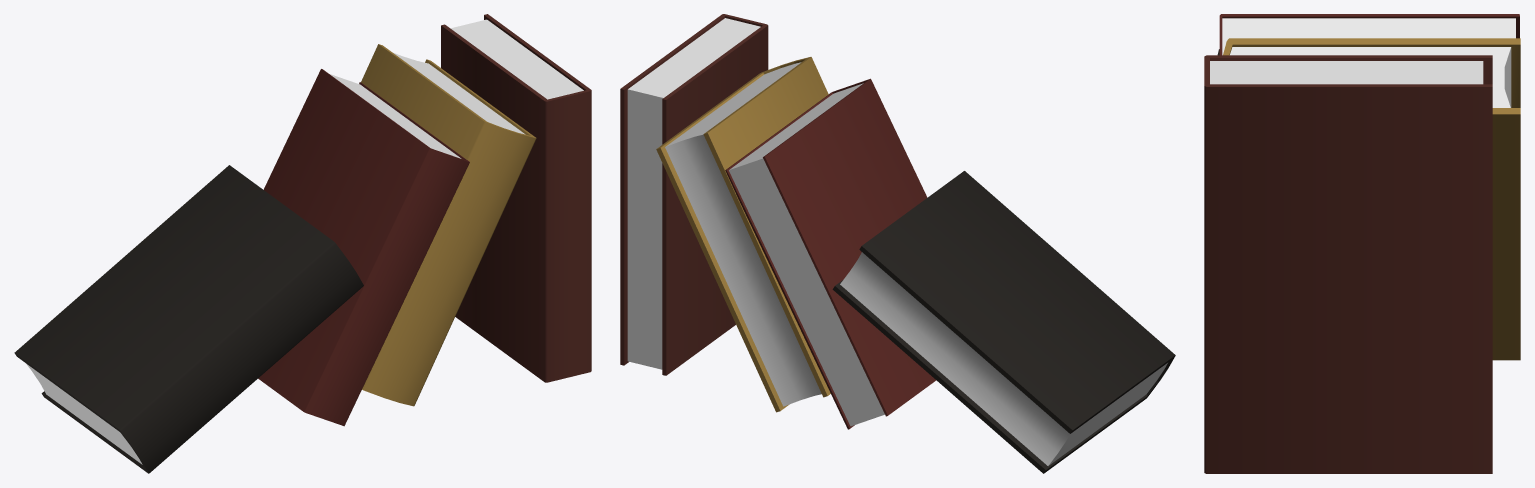
Rendered from 071_books_tilted_reversed.glb.
3 views of the same model, side by side, from view 1: azimuth 30°, elevation 25°; view 2: azimuth 150°, elevation 25°; view 3: azimuth 270°, elevation 25° (orthographic). The views are drawn at different scales.
Parts seen in each view (by area): view 1: Plane.010, Plane.001, Plane, Plane.005; view 2: Plane.010, Plane.001, Plane, Plane.005; view 3: Plane, Plane.005, Plane.001.
Part boxes in pixels (x1,y1,x2,y2): Plane.010: [14, 165, 363, 473]; Plane.001: [258, 69, 469, 426]; Plane: [441, 14, 591, 382]; Plane.005: [361, 44, 536, 406]; Plane.010: [832, 171, 1175, 473]; Plane.001: [725, 78, 936, 429]; Plane: [620, 14, 768, 375]; Plane.005: [656, 57, 830, 412]; Plane: [1204, 55, 1492, 473]; Plane.005: [1223, 38, 1520, 360]; Plane.001: [1219, 14, 1519, 55].
Size of the model in its own units: 1.3 by 0.749 by 0.555.
